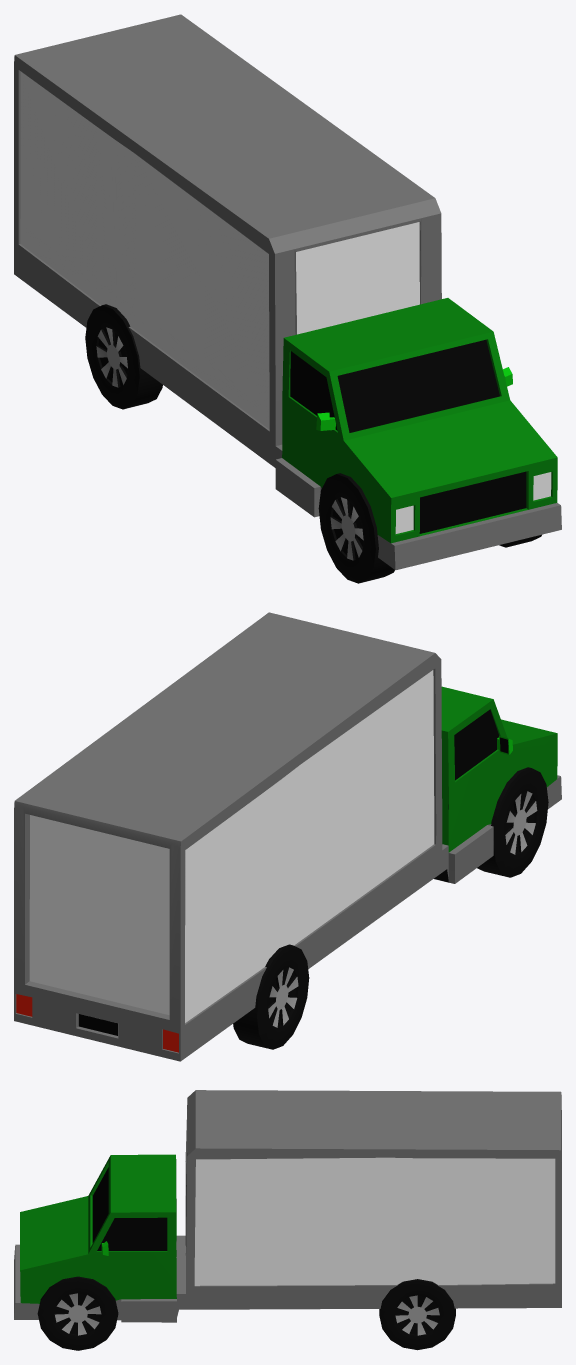
File: truckgreen (1).fbx
The picture shows the model from 3 angles, top to bottom: view 1: azimuth 30°, elevation 25°; view 2: azimuth 150°, elevation 25°; view 3: azimuth 270°, elevation 25°; orthographic projection. The views are drawn at different scales.
Parts seen in each view (by area): view 1: Cube.001, Cube.002, Cube.005; view 2: Cube.001, Cube.002, Cube.005; view 3: Cube.001, Cube.003, Cube.004.
Part boxes in pixels (x1,y1,x2,y2): Cube.001: [14, 14, 561, 570]; Cube.002: [318, 473, 394, 583]; Cube.005: [85, 304, 162, 409]; Cube.001: [14, 612, 561, 1061]; Cube.002: [477, 767, 548, 877]; Cube.005: [233, 944, 309, 1049]; Cube.001: [14, 1090, 561, 1322]; Cube.003: [37, 1276, 118, 1350]; Cube.004: [379, 1279, 455, 1350].
Size of the model in its own units: 131 by 182 by 448.
1 material, 1 textured.
